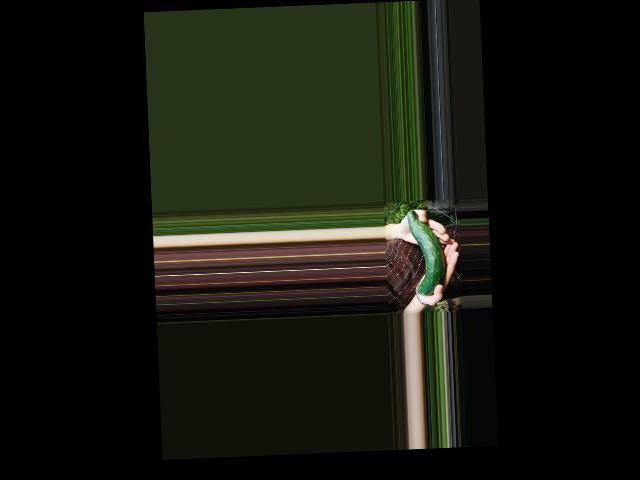cucumber: (407, 209, 446, 297)
